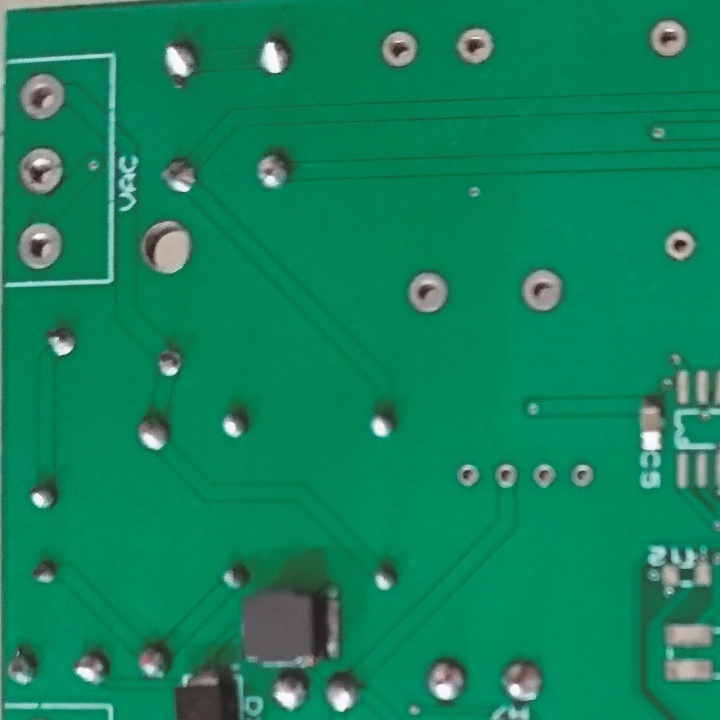F: (17, 69, 67, 121), (15, 221, 64, 272), (518, 267, 565, 316), (17, 148, 64, 194), (408, 272, 448, 318), (454, 25, 496, 66), (647, 17, 687, 59), (380, 28, 421, 68), (664, 228, 698, 263), (566, 462, 596, 489), (529, 461, 560, 487), (492, 461, 519, 487), (456, 462, 480, 488)
